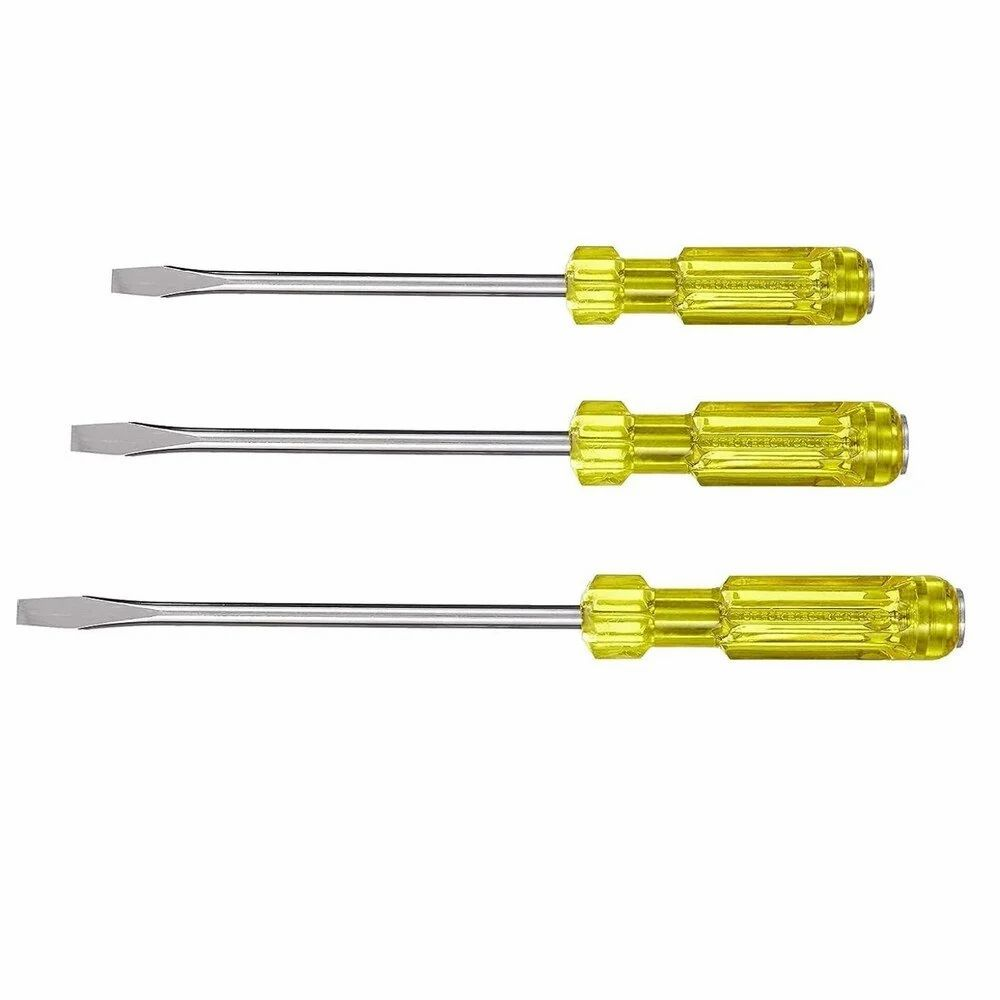screwdriver: (14, 572, 975, 663), (71, 398, 925, 491), (108, 242, 881, 327)
